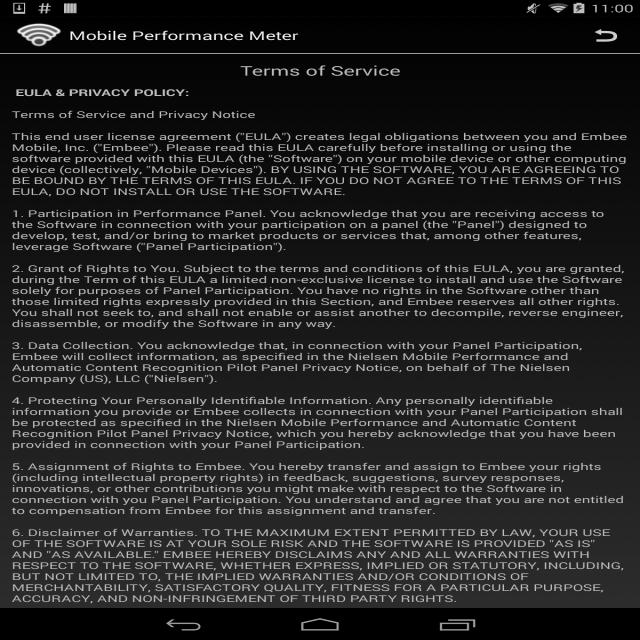ImageButton: (10, 22, 64, 50), (588, 24, 623, 45)
TextView: (11, 528, 621, 602), (16, 130, 621, 196), (12, 265, 626, 328), (18, 398, 623, 450), (71, 30, 296, 44), (243, 62, 398, 81)
